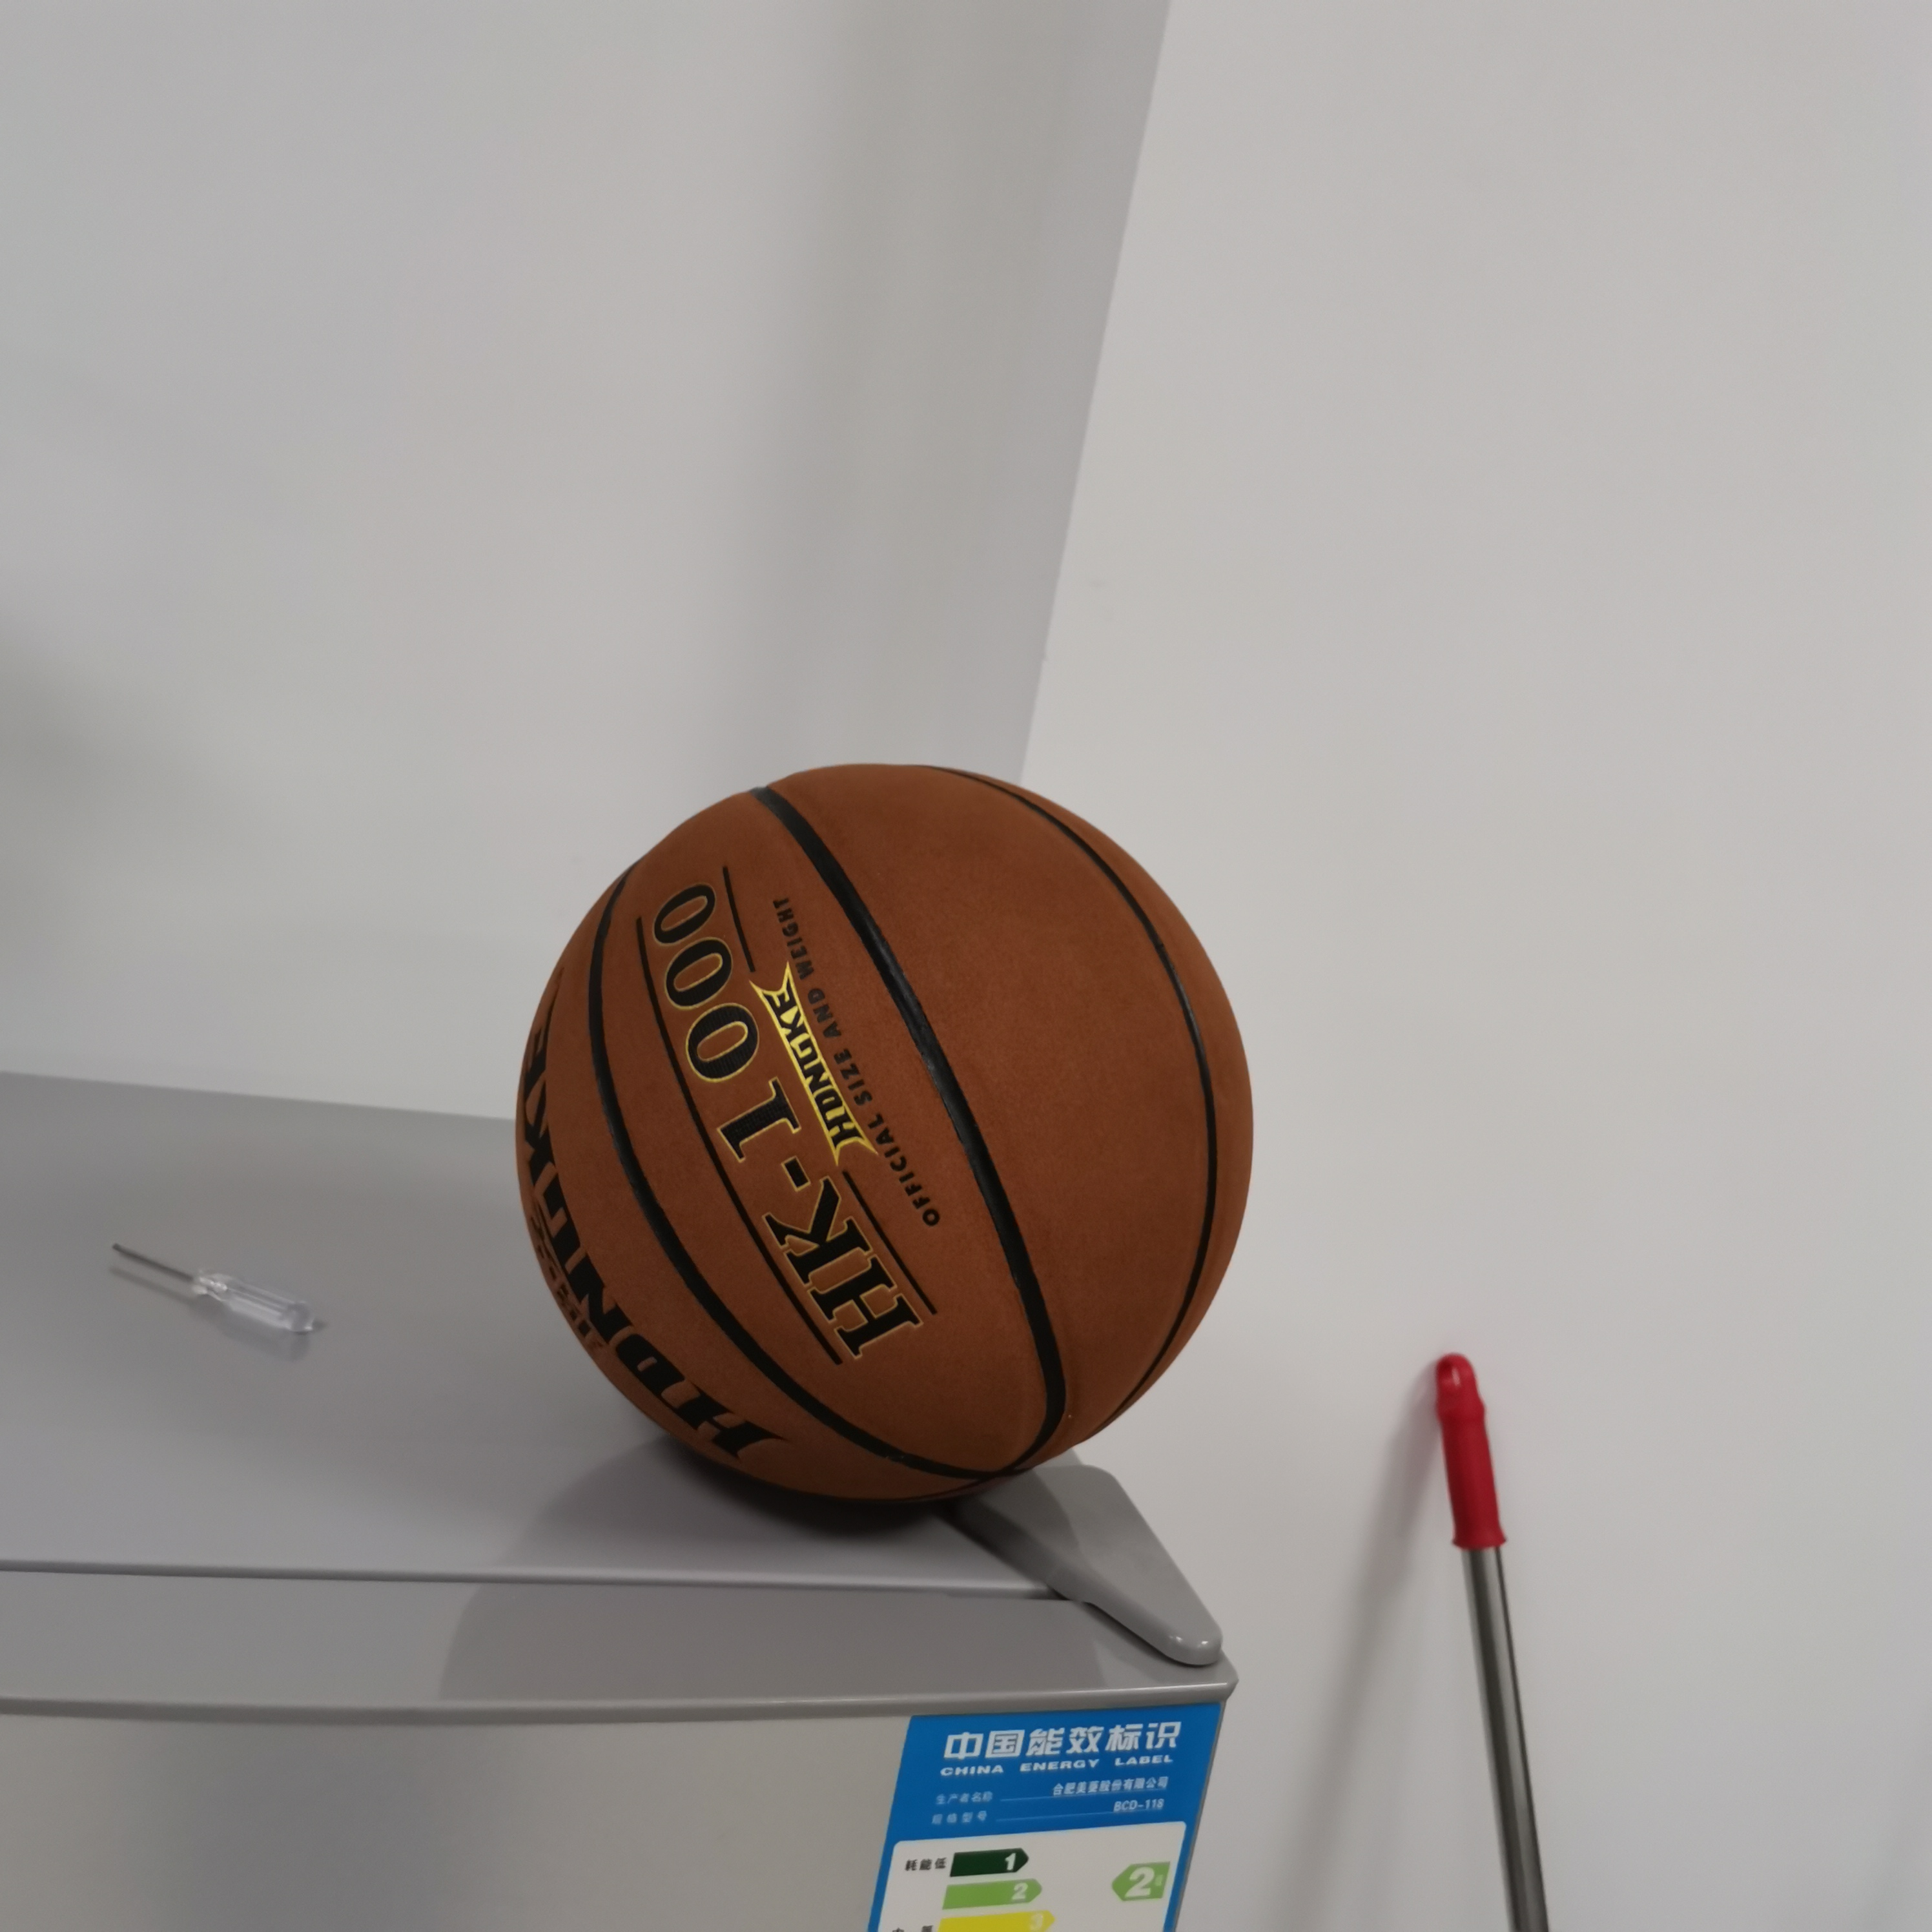basketball: (513, 763, 1256, 1506)
